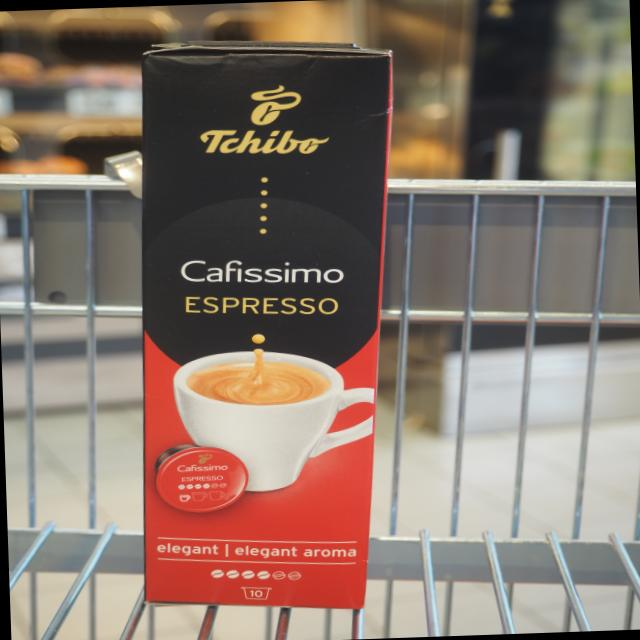Simo Es Elegant: (138, 37, 403, 615)
